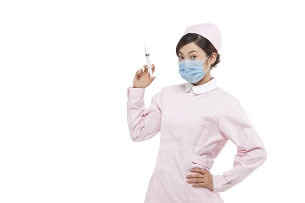Mask: (177, 49, 212, 84)
